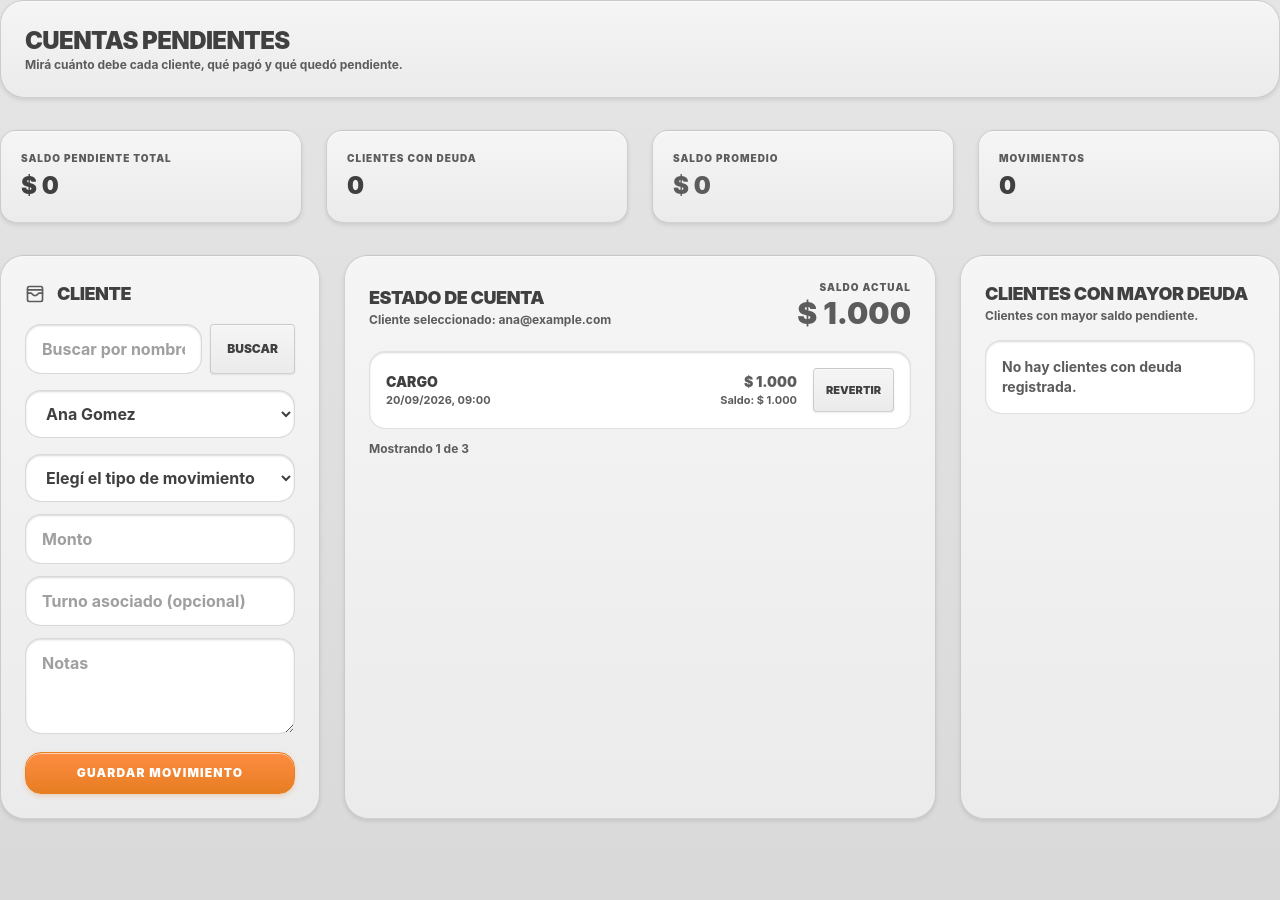
Test: LedgerPage: cargar un movimiento › un monto inválido (-100) no llega al servidor y se dice junto al formulario
Select "Ajuste" in the dropdown named "Tipo de movimiento" at (160, 478), box [25,454,295,502]
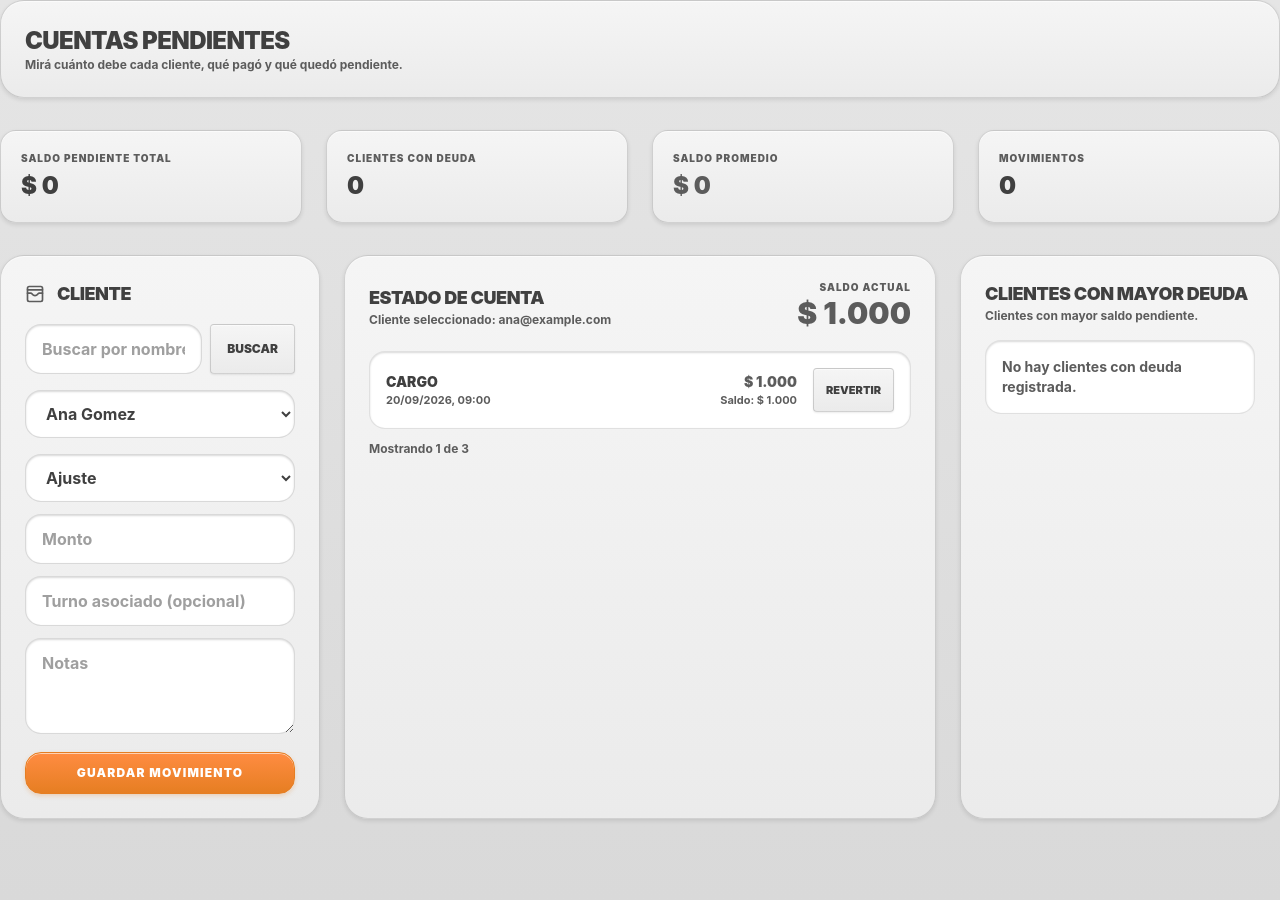
Type "-100" into the field labelled "Monto" at (160, 539), box [25,514,295,564]
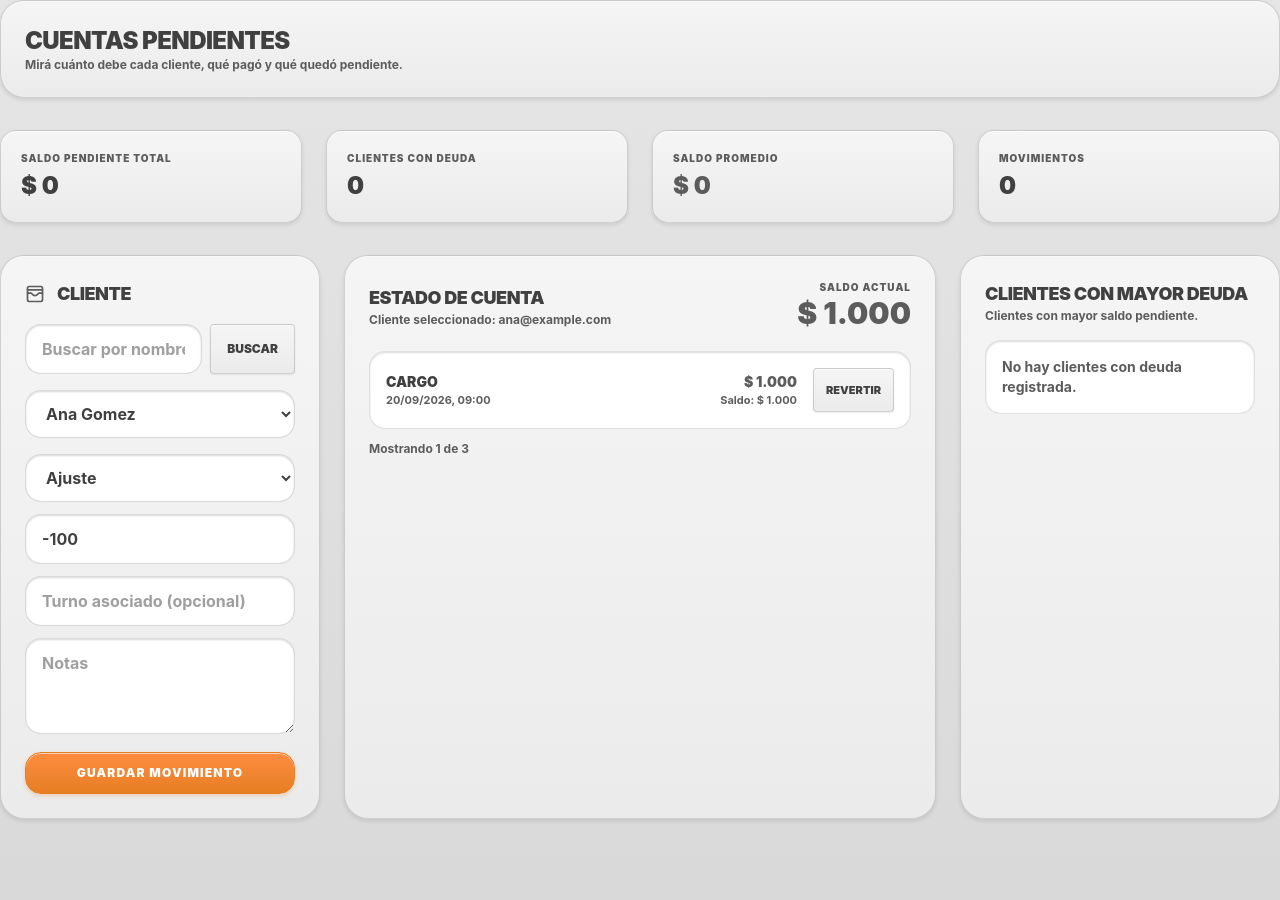
Click the button "Guardar movimiento" at (160, 773), box [25,752,295,794]
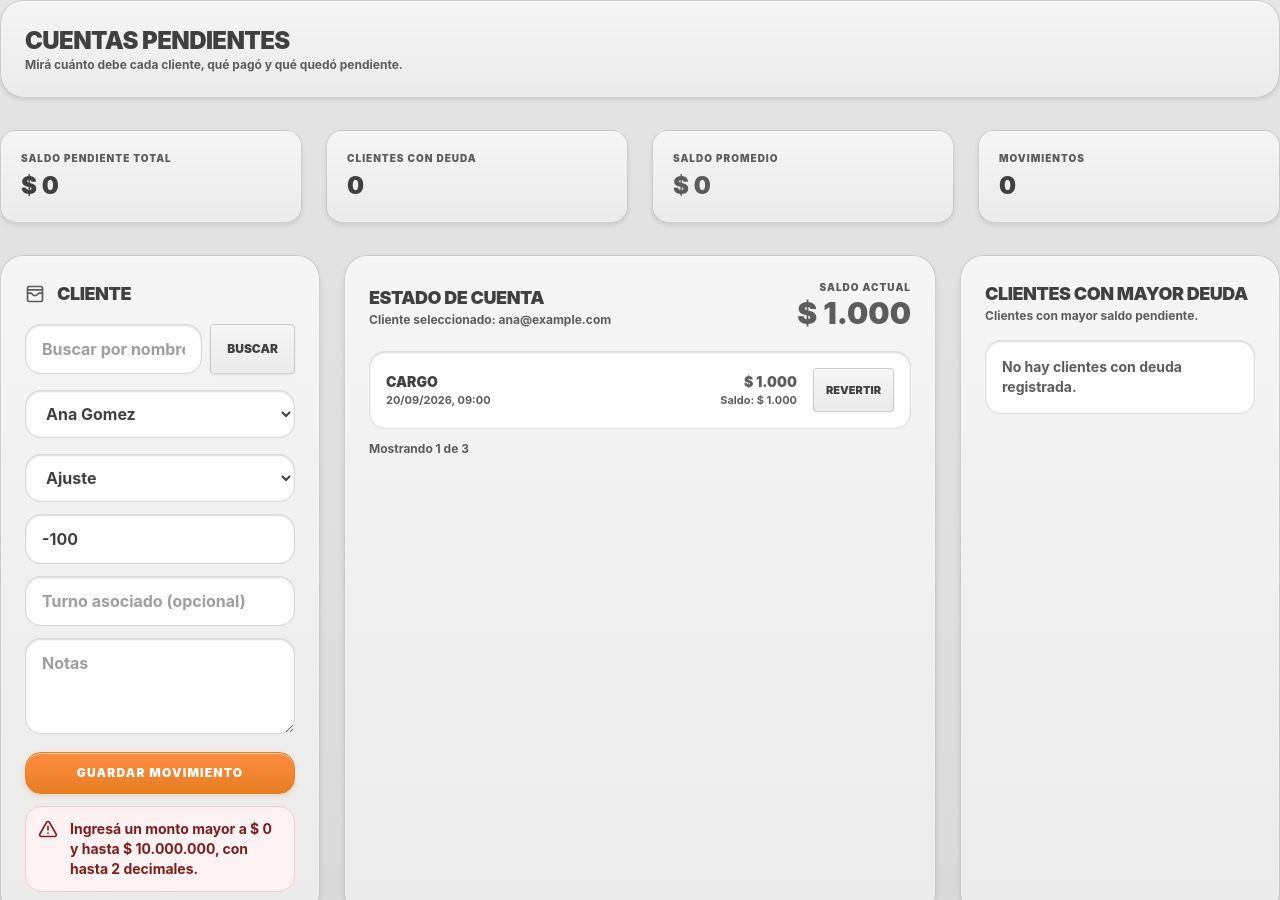
Expected: the message shows "monto", [70,820,272,877]
